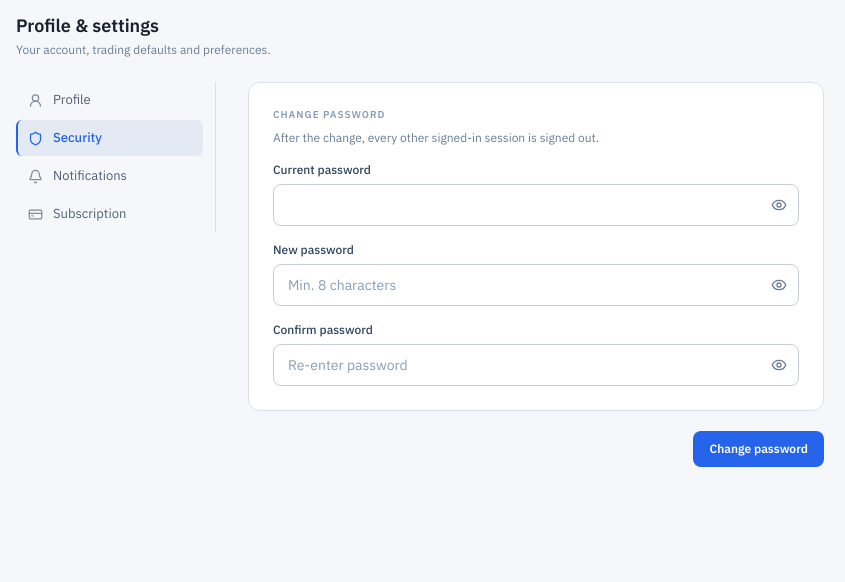
it: SCR-07 Security and Notifications tabs › shows MSG08 under the current password and keeps the form
Type "Wrong-pass1" into the password field labelled "Current password". click: x=536, y=205
box: left=273, top=184, right=799, bottom=226
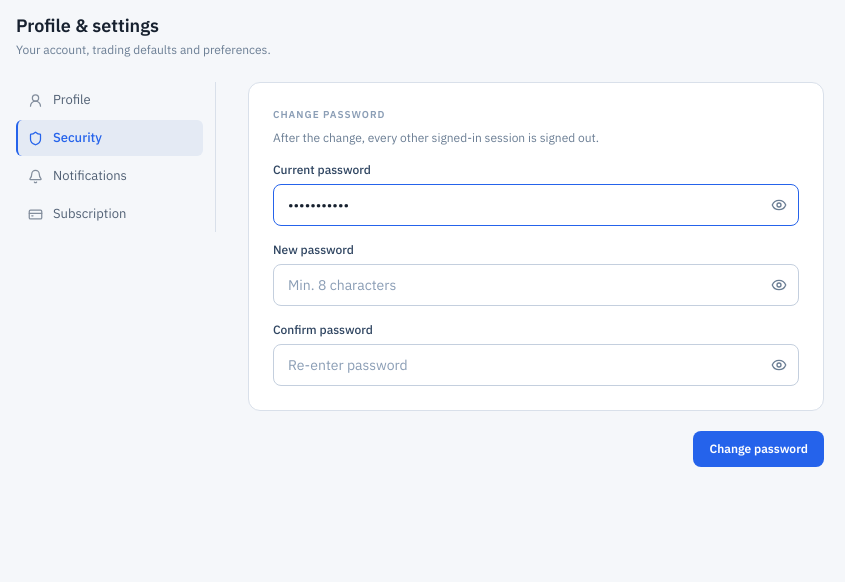
Type "New-pass12" into the password field labelled "New password". click: x=536, y=285
box: left=273, top=264, right=799, bottom=306
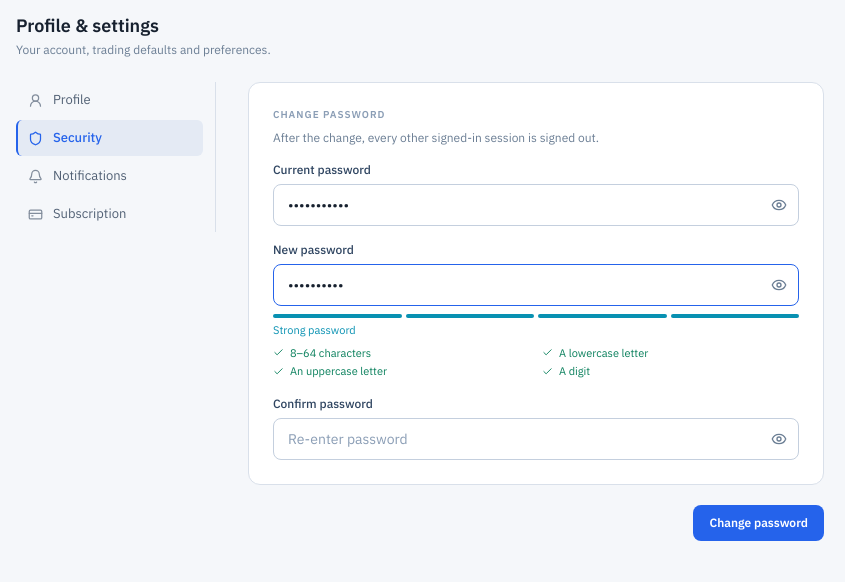
Type "New-pass12" into the password field labelled "Confirm password". click: x=536, y=438
box: left=273, top=418, right=799, bottom=460
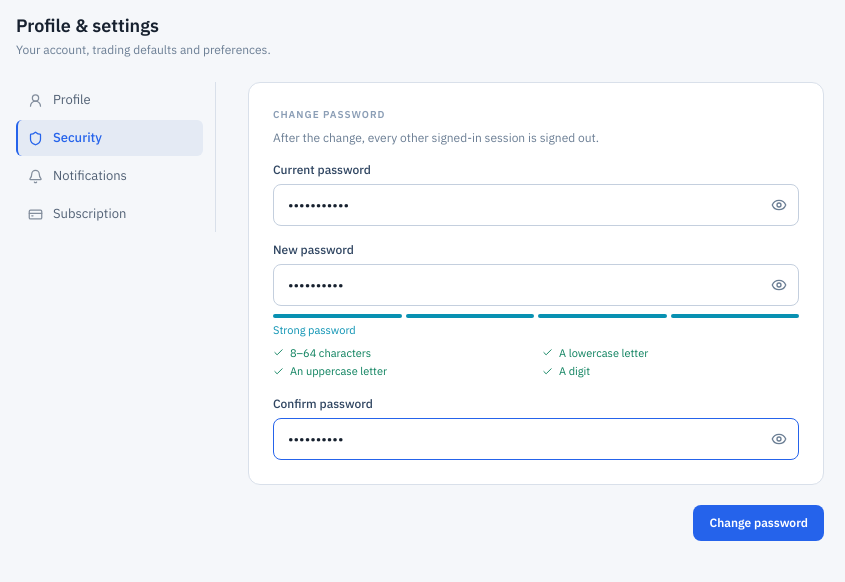
Click the button "Change password". click: x=759, y=522
box: left=693, top=504, right=824, bottom=540
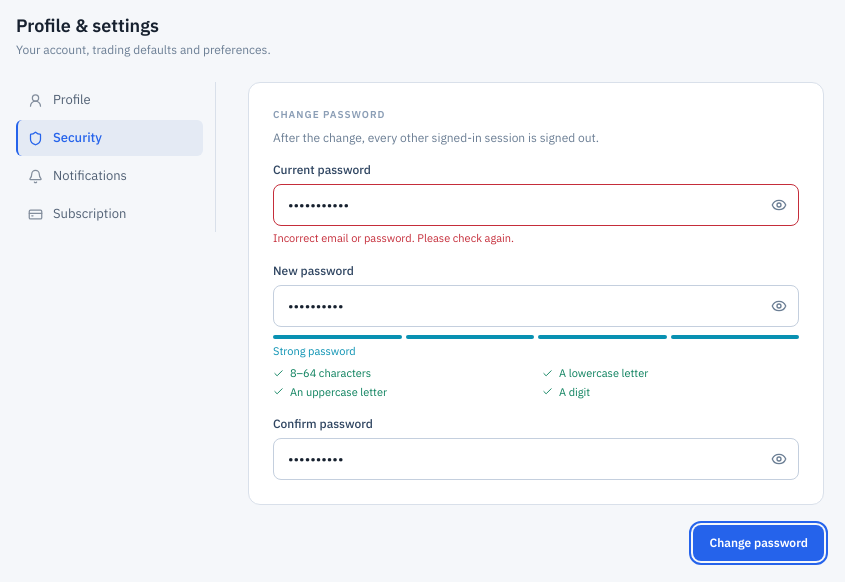
Expected: the text "Incorrect email or password. Please check again." is shown, left=273, top=231, right=514, bottom=245
